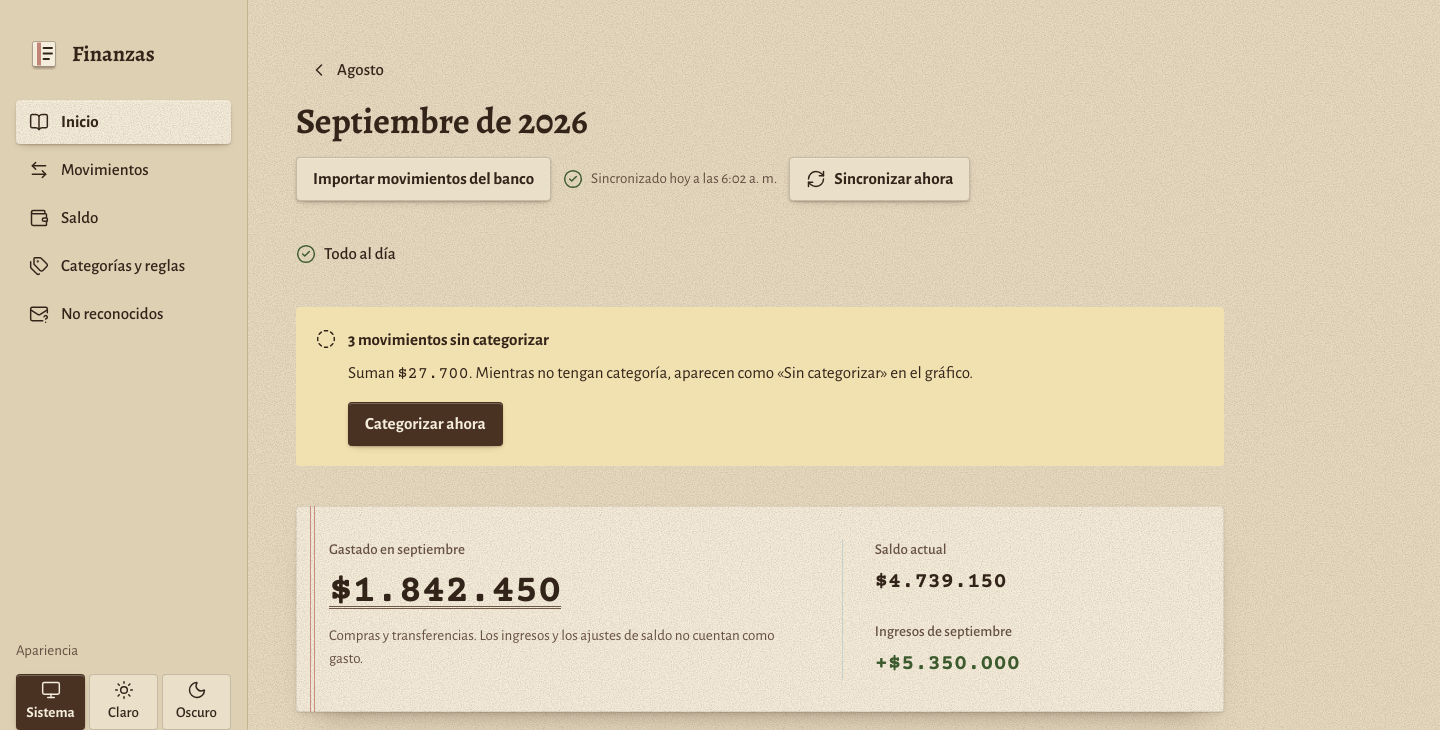
Inicio: sincronización › si ya hay una en curso (409), lo dice junto al botón
Click the button "Sincronizar ahora": click(880, 179) [789,157,970,201]
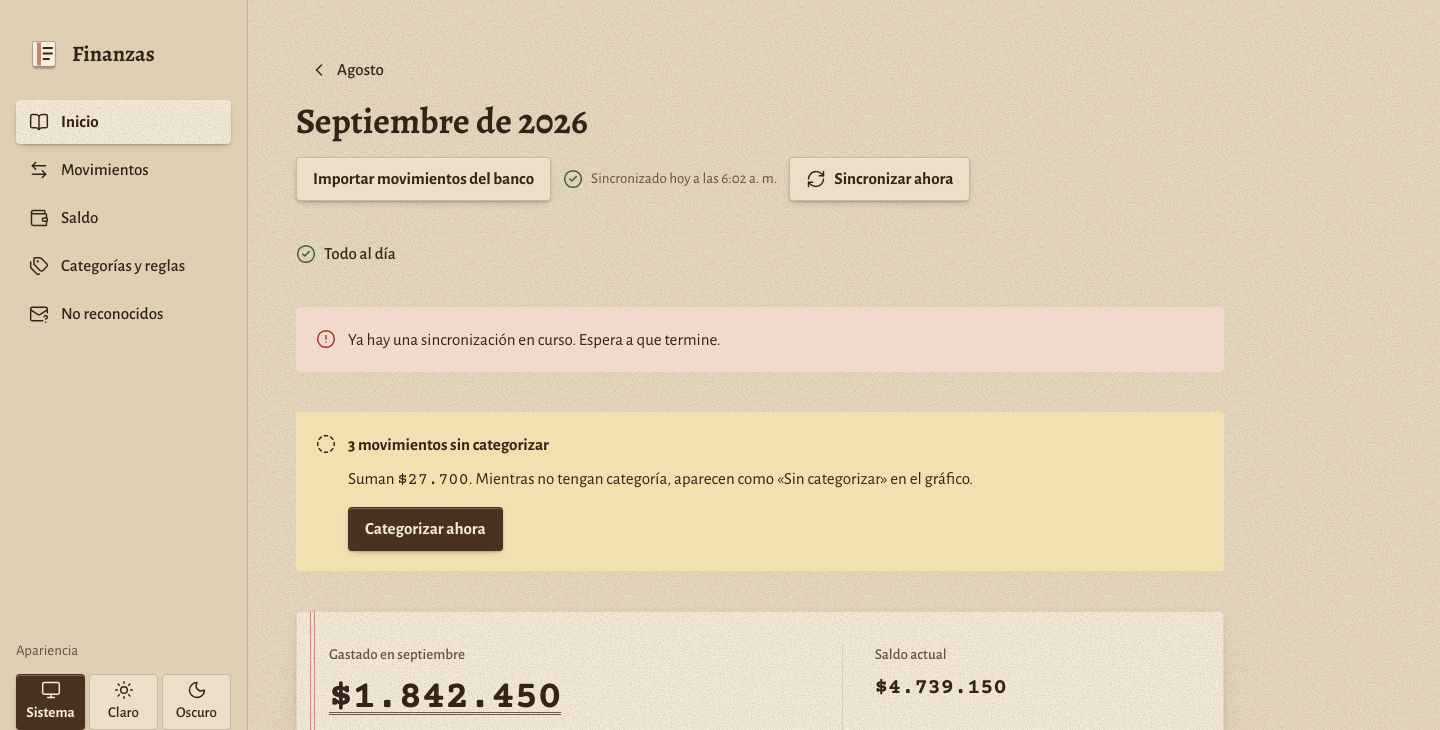
Expected: the message "Ya hay una sincronización en curso. Espera a que termine." is shown, [296,307,1224,372]
